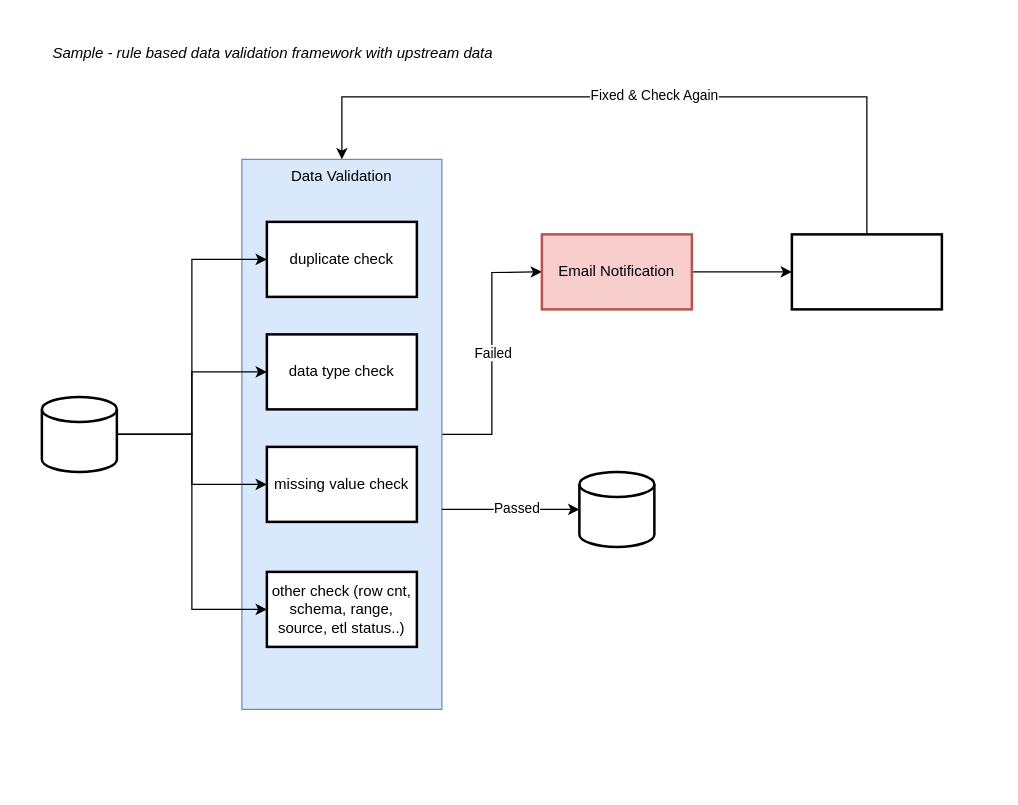
The diagram is 1018 pixels wide and 805 high, and some of its shapes have lost their labels. Here are the shapes that lost their labels. From the top down, the centre of each, then its label:
At (x=866, y=271): "identify imapct & fix".
At (x=79, y=433): "upstream source".
At (x=616, y=509): "staging".
